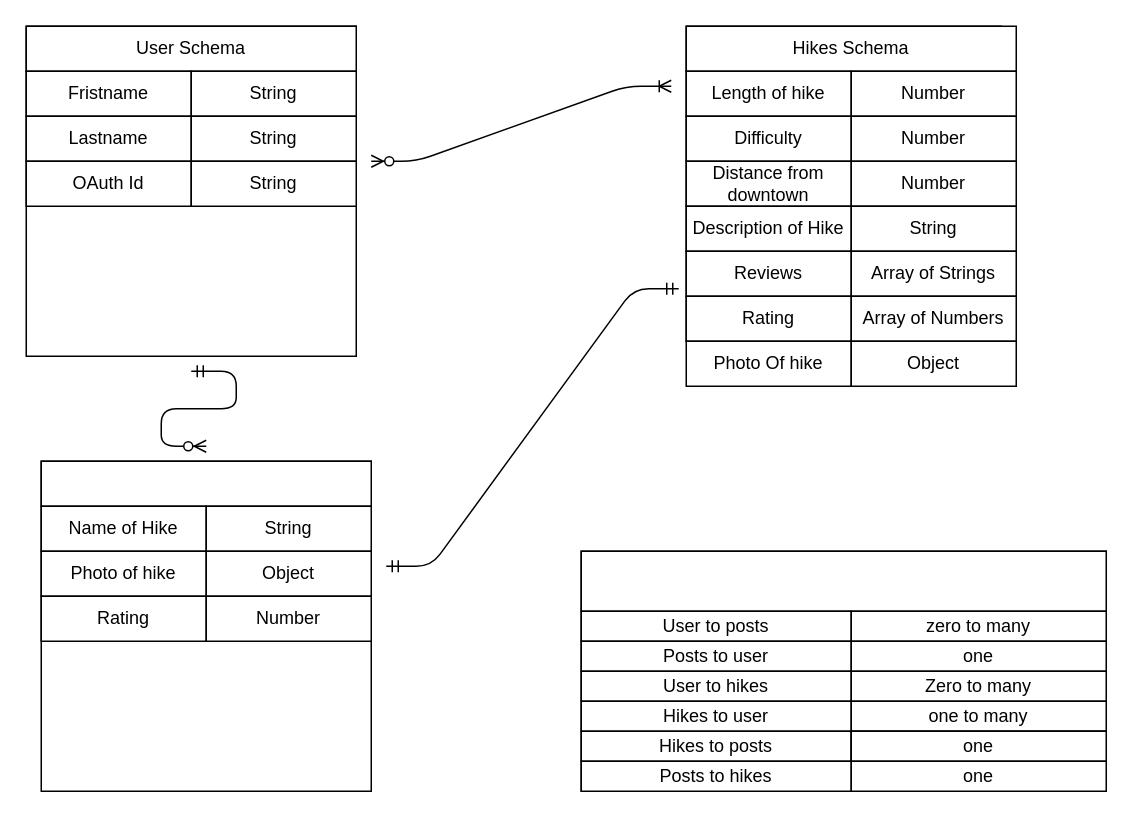
Image size: 1133x818. Some labels were removed from this diagram. The shapes that lost their labels are listed below. From the top down, each one's centre as x and y in pixels, then its label:
pixel 205 483: Posts Schema
pixel 843 580: Relationship correlation
